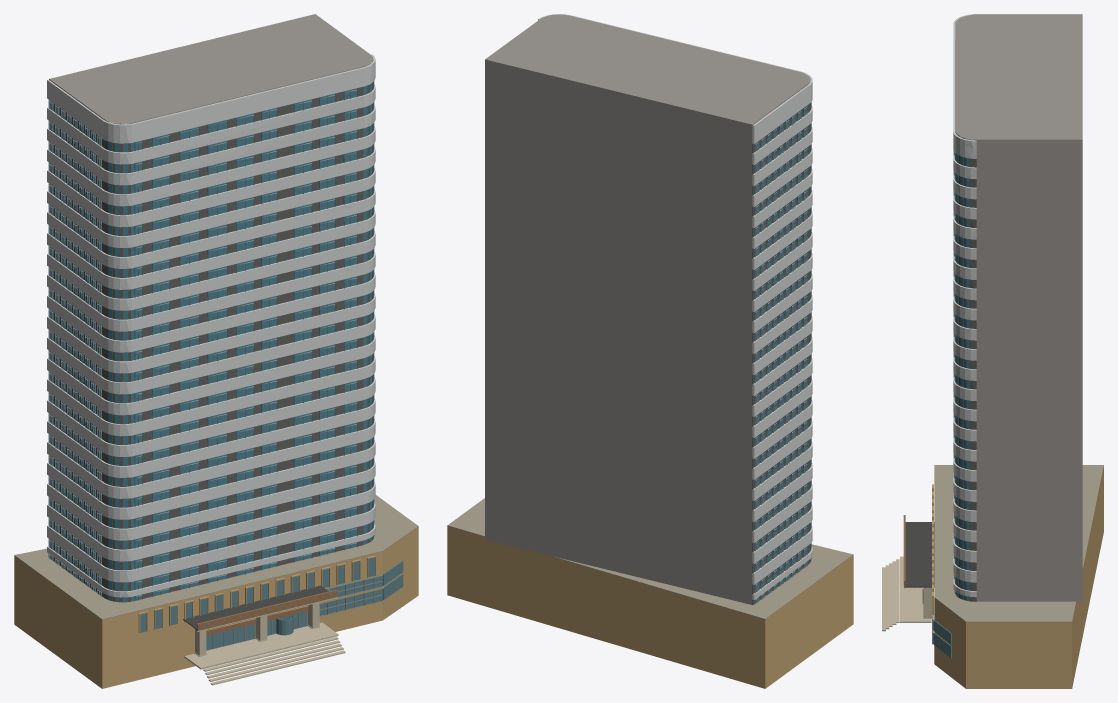
The model's file is light.glb.
3 views of the same model, side by side, from view 1: azimuth 30°, elevation 25°; view 2: azimuth 150°, elevation 25°; view 3: azimuth 270°, elevation 25° (orthographic). The views are drawn at different scales.
Visible parts, largest first — view 1: Observed_silver_bands, KEEP_TOWER_WEB_Observed_blue_glass, Observed_dark_spandrel, G_podium_gold_appearance, KEEP_TOWER_WEB_HOLD_unknown_not_blank_wall, Observed_window_frames, G_assumed_hidden_base, G_visible_piers_steps, G_podium_bluegray, G_canopy_copper_edge, G_canopy_dark_top, G_podium_frame; view 2: KEEP_TOWER_WEB_HOLD_unknown_not_blank_wall, G_podium_gold_appearance, Observed_silver_bands, KEEP_TOWER_WEB_Observed_blue_glass, Observed_window_frames, Observed_dark_spandrel, G_assumed_hidden_base; view 3: KEEP_TOWER_WEB_HOLD_unknown_not_blank_wall, G_podium_gold_appearance, Observed_silver_bands, G_assumed_hidden_base, Observed_dark_spandrel, KEEP_TOWER_WEB_Observed_blue_glass, G_visible_piers_steps, G_canopy_dark_top, G_podium_bluegray.
Part boxes in pixels (bbox=[...]): Observed_silver_bands: bbox=[47, 54, 375, 597]; KEEP_TOWER_WEB_Observed_blue_glass: bbox=[49, 81, 374, 601]; Observed_dark_spandrel: bbox=[48, 83, 372, 602]; G_podium_gold_appearance: bbox=[14, 527, 418, 688]; KEEP_TOWER_WEB_HOLD_unknown_not_blank_wall: bbox=[49, 14, 373, 124]; Observed_window_frames: bbox=[49, 88, 357, 600]; G_assumed_hidden_base: bbox=[14, 495, 418, 619]; G_visible_piers_steps: bbox=[184, 588, 345, 685]; G_podium_bluegray: bbox=[140, 557, 403, 650]; G_canopy_copper_edge: bbox=[196, 589, 338, 635]; G_canopy_dark_top: bbox=[183, 585, 328, 629]; G_podium_frame: bbox=[212, 575, 382, 649]; KEEP_TOWER_WEB_HOLD_unknown_not_blank_wall: bbox=[485, 14, 810, 604]; G_podium_gold_appearance: bbox=[447, 526, 853, 688]; Observed_silver_bands: bbox=[538, 14, 812, 599]; KEEP_TOWER_WEB_Observed_blue_glass: bbox=[754, 102, 811, 603]; Observed_window_frames: bbox=[755, 105, 807, 604]; Observed_dark_spandrel: bbox=[752, 103, 810, 604]; G_assumed_hidden_base: bbox=[447, 498, 853, 619]; KEEP_TOWER_WEB_HOLD_unknown_not_blank_wall: bbox=[955, 14, 1082, 601]; G_podium_gold_appearance: bbox=[903, 466, 1103, 688]; Observed_silver_bands: bbox=[953, 14, 1082, 597]; G_assumed_hidden_base: bbox=[934, 465, 1103, 622]; Observed_dark_spandrel: bbox=[955, 40, 976, 601]; KEEP_TOWER_WEB_Observed_blue_glass: bbox=[954, 152, 970, 601]; G_visible_piers_steps: bbox=[882, 556, 931, 631]; G_canopy_dark_top: bbox=[905, 522, 934, 587]; G_podium_bluegray: bbox=[922, 588, 951, 658].
Bounding box in the file's own units: 70 × 110 × 41.86.
